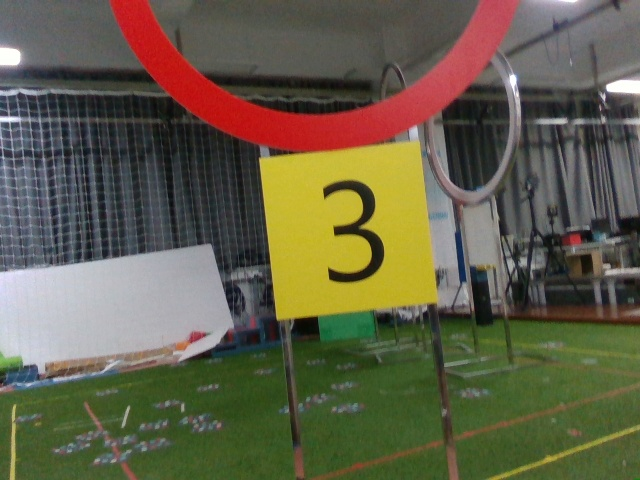target: (270, 150, 434, 304)
